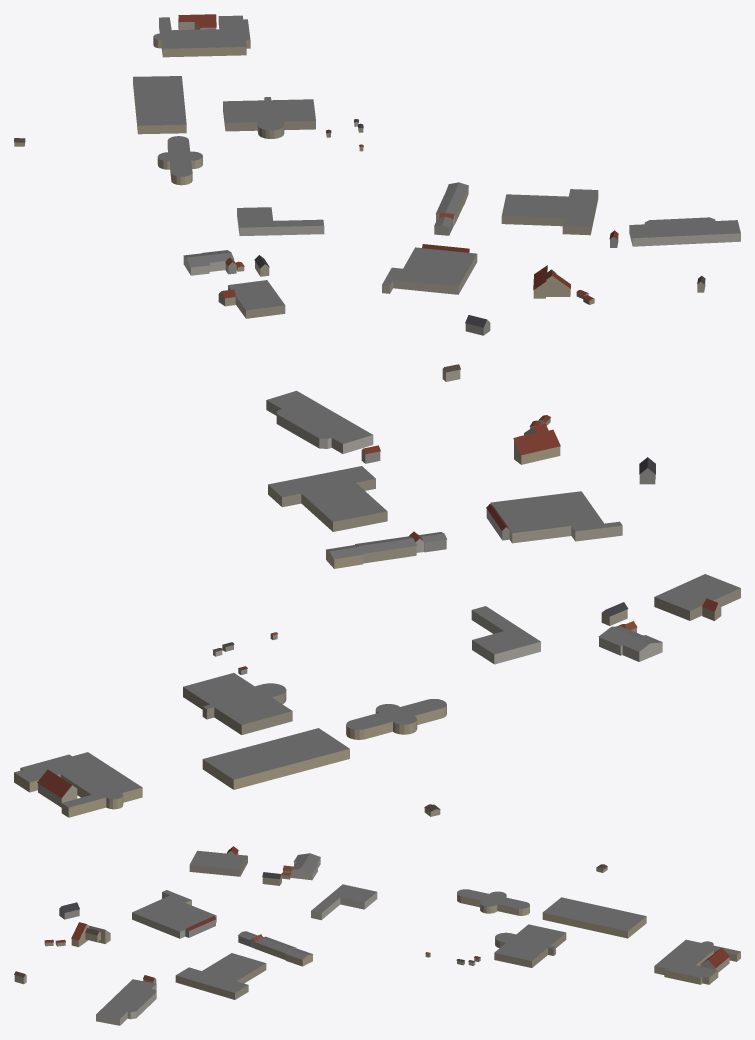
3 renders of one model, top to bottom at view 1: azimuth 30°, elevation 25°; view 2: azimuth 150°, elevation 25°; view 3: azimuth 270°, elevation 25°, orthographic. The views are drawn at different scales.
Parts seen in each view (by area): view 1: buildings; view 2: buildings; view 3: buildings.
Part boxes in pixels (left/top/right/bottom): buildings: left=14, top=14, right=740, bottom=335; buildings: left=14, top=364, right=740, bottom=817; buildings: left=14, top=846, right=740, bottom=1025.
Size of the model in its own units: 333 by 31.93 by 560.
